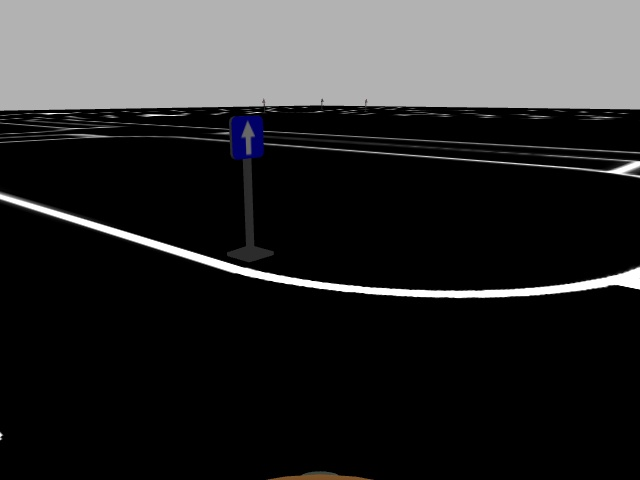oneway: (227, 114, 266, 162)
